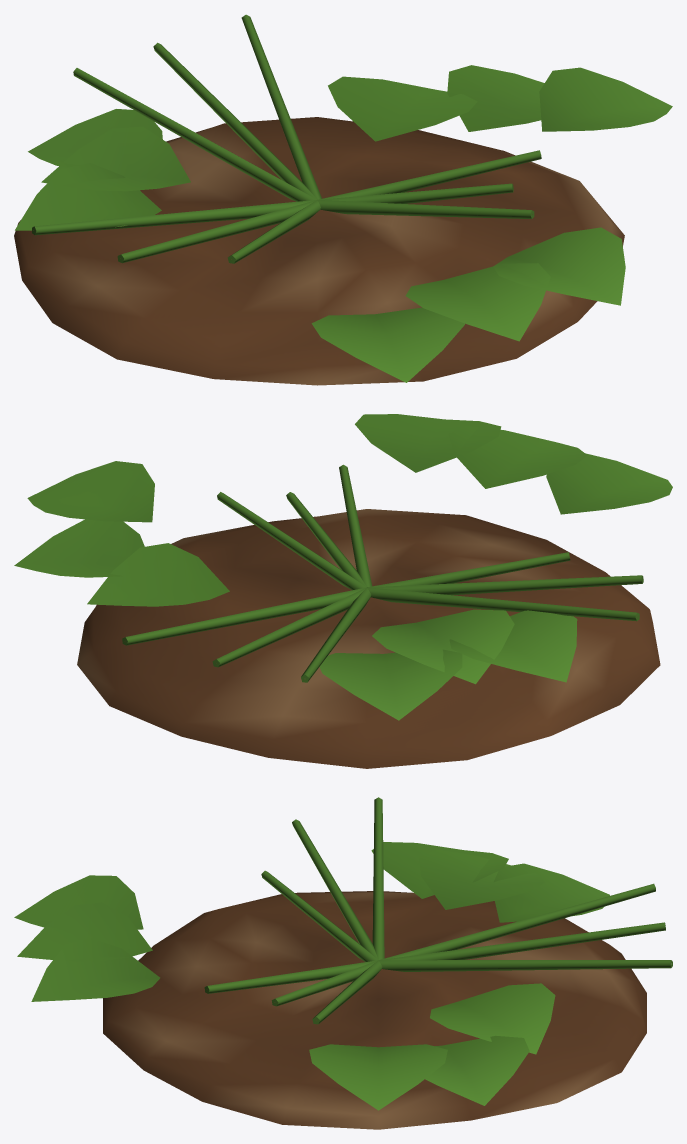
Rendered from plant-pumpkin-3.gltf.
3 renders of one model, top to bottom at view 1: azimuth 30°, elevation 25°; view 2: azimuth 150°, elevation 25°; view 3: azimuth 270°, elevation 25°, orthographic. The views are drawn at different scales.
Bounding box in the file's own units: 1.54 × 0.2378 × 1.53.
